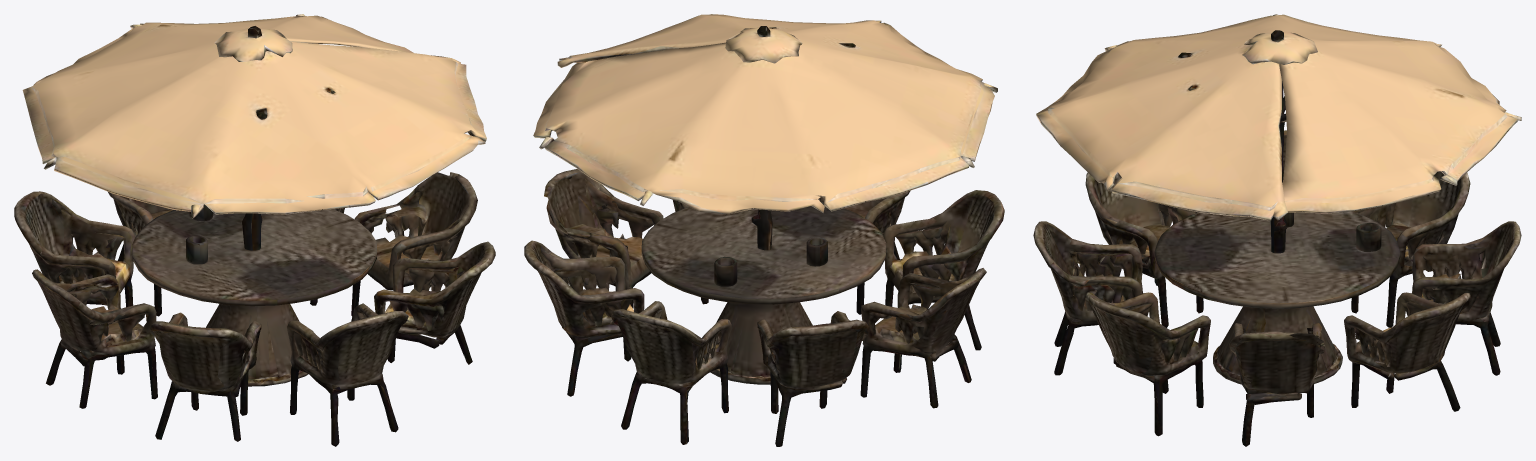
Rendered from patioset.glb.
3 views of the same model, side by side, from view 1: azimuth 30°, elevation 25°; view 2: azimuth 150°, elevation 25°; view 3: azimuth 270°, elevation 25° (orthographic).
Bounding box in the file's own units: 1.91 × 1.43 × 1.91.
Materials: 1 (1 with a texture image).
